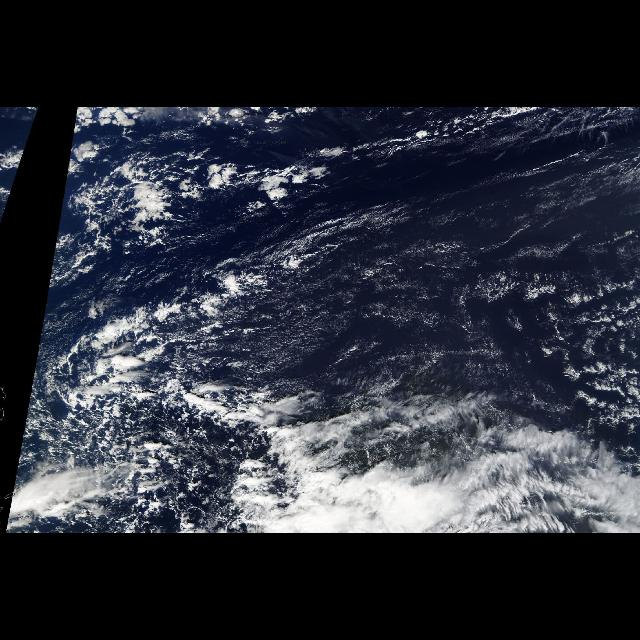Gravel: (60, 402, 218, 508)
Sugar: (190, 114, 640, 434)
